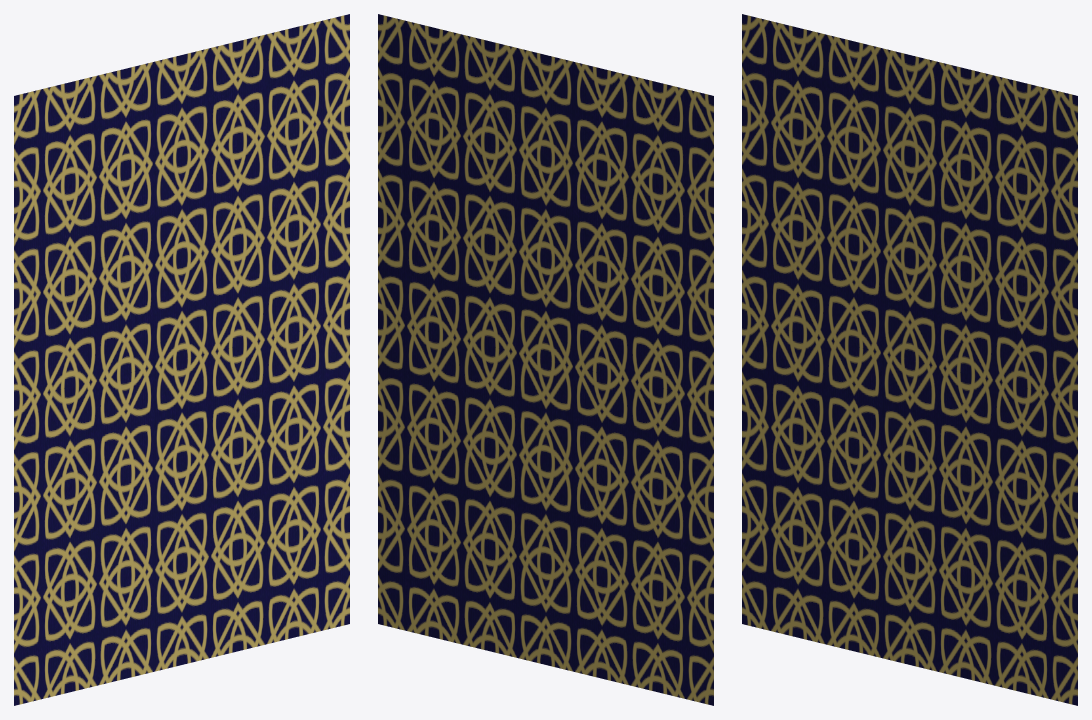
File: tapestry.fbx
3 renders of one model, left to right at view 1: azimuth 30°, elevation 25°; view 2: azimuth 150°, elevation 25°; view 3: azimuth 330°, elevation 25°, orthographic.
Visible parts, largest first — view 1: pPlane3; view 2: pPlane3; view 3: pPlane3.
Boxes of the visible parts, box(x1,y1,x2,y2) form: pPlane3: box(14, 14, 349, 705); pPlane3: box(378, 14, 713, 705); pPlane3: box(742, 14, 1077, 705).
Bounding box in the file's own units: 137 × 238 × 1.46e-14.
